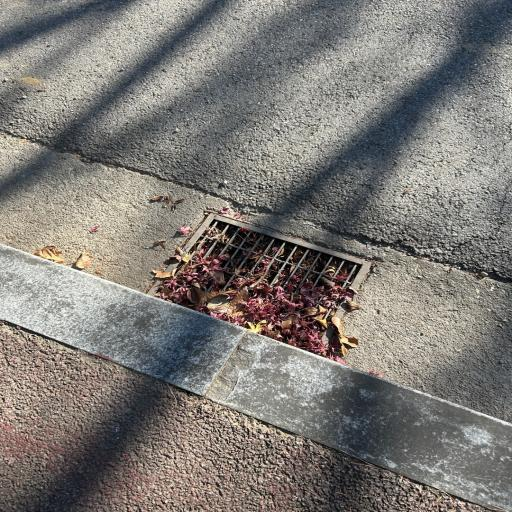debris: (330, 284, 346, 300), (329, 268, 348, 281), (205, 228, 227, 239), (273, 247, 283, 254), (291, 275, 300, 280), (303, 261, 309, 266), (294, 251, 299, 257), (237, 268, 246, 271), (272, 260, 276, 266)
drain: (159, 221, 363, 350)
